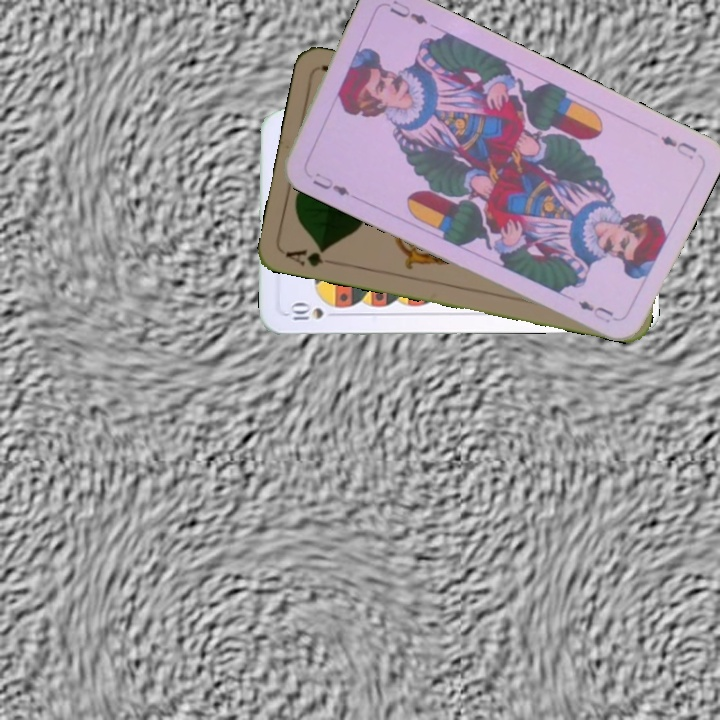EU: (308, 168, 352, 199), (656, 131, 700, 162)
GA: (281, 244, 340, 269)
S10: (286, 300, 343, 323)
